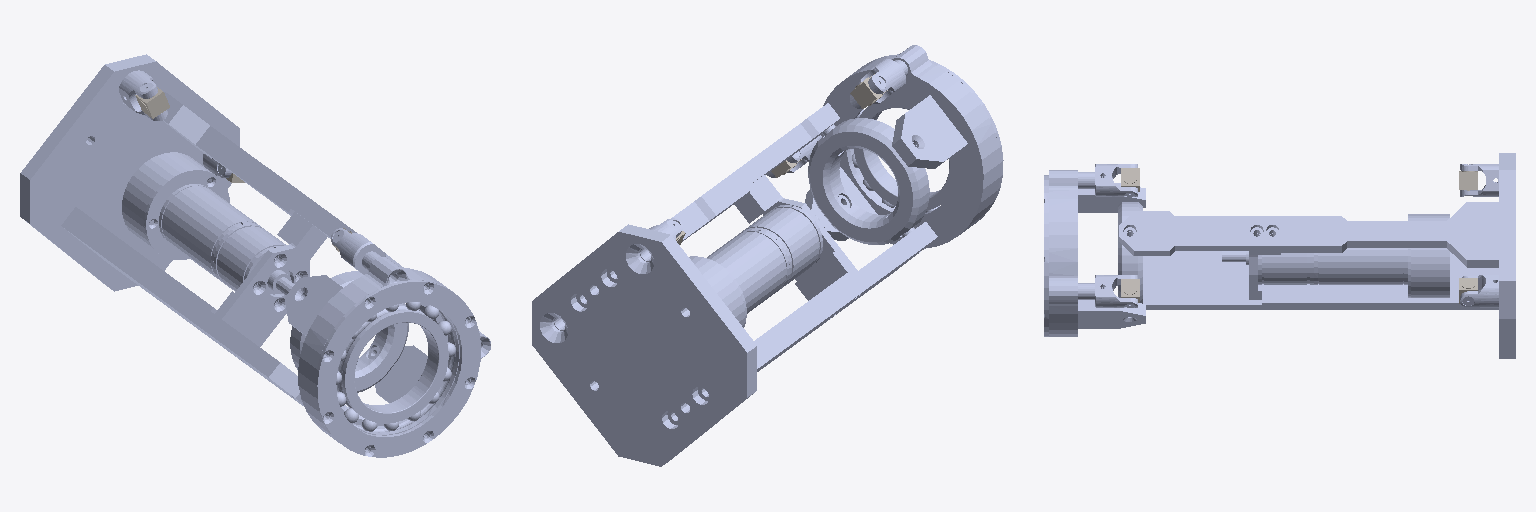
The robot description file, URDF, robot "air_wrist_ros":
<?xml version="1.0" encoding="utf-8"?>
<!-- This URDF was automatically created by SolidWorks to URDF Exporter! Originally created by [author] ([email redacted]) 
     Commit Version: 1.5.1-0-g916b5db  Build Version: 1.5.7152.31018
     For more information, please see http://wiki.ros.org/sw_urdf_exporter -->
<robot
  name="air_wrist_ros">
  <link
    name="base_link">
    <inertial>
      <origin
        xyz="-0.0025061 -0.0025058 0.064711"
        rpy="0 0 0" />
      <mass
        value="0.18492" />
      <inertia
        ixx="0.00023882"
        ixy="1.6596E-06"
        ixz="3.7747E-07"
        iyy="0.00023882"
        iyz="3.7901E-07"
        izz="6.8442E-05" />
    </inertial>
    <visual>
      <origin
        xyz="0 0 0"
        rpy="0 0 0" />
      <geometry>
        <mesh
          filename="package://air_wrist_ros/meshes/base_link.STL" />
      </geometry>
      <material
        name="">
        <color
          rgba="0.79216 0.81961 0.93333 1" />
      </material>
    </visual>
    <collision>
      <origin
        xyz="0 0 0"
        rpy="0 0 0" />
      <geometry>
        <mesh
          filename="package://air_wrist_ros/meshes/base_link.STL" />
      </geometry>
    </collision>
  </link>
  <link
    name="base_x">
    <inertial>
      <origin
        xyz="3.4694E-18 -7.6328E-17 3.2092E-16"
        rpy="0 0 0" />
      <mass
        value="0.0057459" />
      <inertia
        ixx="7.8242E-08"
        ixy="-1.0796E-22"
        ixz="-4.0384E-23"
        iyy="7.6638E-08"
        iyz="6.4201E-10"
        izz="7.5896E-08" />
    </inertial>
    <visual>
      <origin
        xyz="0 0 0"
        rpy="0 0 0" />
      <geometry>
        <mesh
          filename="package://air_wrist_ros/meshes/base_x.STL" />
      </geometry>
      <material
        name="">
        <color
          rgba="0.77647 0.75686 0.73725 1" />
      </material>
    </visual>
    <collision>
      <origin
        xyz="0 0 0"
        rpy="0 0 0" />
      <geometry>
        <mesh
          filename="package://air_wrist_ros/meshes/base_x.STL" />
      </geometry>
    </collision>
  </link>
  <joint
    name="base_xj"
    type="fixed">
    <origin
      xyz="0.04 -0.0225 0"
      rpy="2.8798 0 1.5708" />
    <parent
      link="base_link" />
    <child
      link="base_x" />
    <axis
      xyz="0 0 0" />
  </joint>
  <link
    name="base_y">
    <inertial>
      <origin
        xyz="1.0408E-17 -4.7878E-16 -1.112E-15"
        rpy="0 0 0" />
      <mass
        value="0.0057459" />
      <inertia
        ixx="7.8242E-08"
        ixy="-1.8379E-17"
        ixz="1.4312E-17"
        iyy="7.7008E-08"
        iyz="-8.9423E-13"
        izz="7.5526E-08" />
    </inertial>
    <visual>
      <origin
        xyz="0 0 0"
        rpy="0 0 0" />
      <geometry>
        <mesh
          filename="package://air_wrist_ros/meshes/base_y.STL" />
      </geometry>
      <material
        name="">
        <color
          rgba="0.77647 0.75686 0.73725 1" />
      </material>
    </visual>
    <collision>
      <origin
        xyz="0 0 0"
        rpy="0 0 0" />
      <geometry>
        <mesh
          filename="package://air_wrist_ros/meshes/base_y.STL" />
      </geometry>
    </collision>
  </link>
  <joint
    name="base_yj"
    type="fixed">
    <origin
      xyz="0 -0.0225 0.04"
      rpy="1.9641 0 -1.5708" />
    <parent
      link="base_link" />
    <child
      link="base_y" />
    <axis
      xyz="0 0 0" />
  </joint>
  <link
    name="roll_cardan">
    <inertial>
      <origin
        xyz="1.4118E-08 -1.4882E-08 1.9978E-08"
        rpy="0 0 0" />
      <mass
        value="0.013068" />
      <inertia
        ixx="3.0076E-06"
        ixy="2.5944E-12"
        ixz="3.3722E-12"
        iyy="3.0076E-06"
        iyz="-1.7367E-14"
        izz="5.7134E-06" />
    </inertial>
    <visual>
      <origin
        xyz="0 0 0"
        rpy="0 0 0" />
      <geometry>
        <mesh
          filename="package://air_wrist_ros/meshes/roll_cardan.STL" />
      </geometry>
      <material
        name="">
        <color
          rgba="0.79216 0.81961 0.93333 1" />
      </material>
    </visual>
    <collision>
      <origin
        xyz="0 0 0"
        rpy="0 0 0" />
      <geometry>
        <mesh
          filename="package://air_wrist_ros/meshes/roll_cardan.STL" />
      </geometry>
    </collision>
  </link>
  <joint
    name="roll_j"
    type="revolute">
    <origin
      xyz="0 -0.1845 0"
      rpy="1.5708 -0.7854 0" />
    <parent
      link="base_link" />
    <child
      link="roll_cardan" />
    <axis
      xyz="1 0 0" />
    <limit
      lower="-0.5235"
      upper="0.5235"
      effort="0"
      velocity="0" />
  </joint>
  <link
    name="top_pitch">
    <inertial>
      <origin
        xyz="0.0019886 0.0019886 0.027456"
        rpy="0 0 0" />
      <mass
        value="0.056375" />
      <inertia
        ixx="2.3625E-05"
        ixy="-3.3938E-07"
        ixz="-2.6419E-08"
        iyy="2.3625E-05"
        iyz="-2.6417E-08"
        izz="4.4801E-05" />
    </inertial>
    <visual>
      <origin
        xyz="0 0 0"
        rpy="0 0 0" />
      <geometry>
        <mesh
          filename="package://air_wrist_ros/meshes/top_pitch.STL" />
      </geometry>
      <material
        name="">
        <color
          rgba="0.79216 0.81961 0.93333 1" />
      </material>
    </visual>
    <collision>
      <origin
        xyz="0 0 0"
        rpy="0 0 0" />
      <geometry>
        <mesh
          filename="package://air_wrist_ros/meshes/top_pitch.STL" />
      </geometry>
    </collision>
  </link>
  <joint
    name="pitch_j"
    type="revolute">
    <origin
      xyz="0 0 0"
      rpy="0 0 -0.7854" />
    <parent
      link="roll_cardan" />
    <child
      link="top_pitch" />
    <axis
      xyz="0.70711 -0.70711 0" />
    <limit
      lower="-0.5235"
      upper="0.5235"
      effort="0"
      velocity="0" />
  </joint>
  <link
    name="top_x">
    <inertial>
      <origin
        xyz="0 -1.7035E-15 -1.7417E-15"
        rpy="0 0 0" />
      <mass
        value="0.0057459" />
      <inertia
        ixx="7.8242E-08"
        ixy="4.4796E-23"
        ixz="8.0996E-23"
        iyy="7.5526E-08"
        iyz="-5.6248E-23"
        izz="7.7008E-08" />
    </inertial>
    <visual>
      <origin
        xyz="0 0 0"
        rpy="0 0 0" />
      <geometry>
        <mesh
          filename="package://air_wrist_ros/meshes/top_x.STL" />
      </geometry>
      <material
        name="">
        <color
          rgba="0.77647 0.75686 0.73725 1" />
      </material>
    </visual>
    <collision>
      <origin
        xyz="0 0 0"
        rpy="0 0 0" />
      <geometry>
        <mesh
          filename="package://air_wrist_ros/meshes/top_x.STL" />
      </geometry>
    </collision>
  </link>
  <joint
    name="top_xj"
    type="fixed">
    <origin
      xyz="0.04 0 0"
      rpy="2.3562 1.5708 0" />
    <parent
      link="top_pitch" />
    <child
      link="top_x" />
    <axis
      xyz="0 0 0" />
  </joint>
  <link
    name="top_y">
    <inertial>
      <origin
        xyz="5.5511E-17 -2.158E-15 2.1684E-15"
        rpy="0 0 0" />
      <mass
        value="0.0057459" />
      <inertia
        ixx="7.8242E-08"
        ixy="9.4579E-23"
        ixz="1.1731E-22"
        iyy="7.5526E-08"
        iyz="-2.647E-23"
        izz="7.7008E-08" />
    </inertial>
    <visual>
      <origin
        xyz="0 0 0"
        rpy="0 0 0" />
      <geometry>
        <mesh
          filename="package://air_wrist_ros/meshes/top_y.STL" />
      </geometry>
      <material
        name="">
        <color
          rgba="0.77647 0.75686 0.73725 1" />
      </material>
    </visual>
    <collision>
      <origin
        xyz="0 0 0"
        rpy="0 0 0" />
      <geometry>
        <mesh
          filename="package://air_wrist_ros/meshes/top_y.STL" />
      </geometry>
    </collision>
  </link>
  <joint
    name="top_yj"
    type="fixed">
    <origin
      xyz="0 0.04 0"
      rpy="2.3562 1.5708 0" />
    <parent
      link="top_pitch" />
    <child
      link="top_y" />
    <axis
      xyz="0 0 0" />
  </joint>
  <link
    name="yaw_top">
    <inertial>
      <origin
        xyz="0.0027885 -0.0027266 0.10755"
        rpy="0 0 0" />
      <mass
        value="0.28988" />
      <inertia
        ixx="0.00021505"
        ixy="-2.243E-08"
        ixz="2.722E-07"
        iyy="0.0002927"
        iyz="1.1532E-05"
        izz="0.00016683" />
    </inertial>
    <visual>
      <origin
        xyz="0 0 0"
        rpy="0 0 0" />
      <geometry>
        <mesh
          filename="package://air_wrist_ros/meshes/yaw_top.STL" />
      </geometry>
      <material
        name="">
        <color
          rgba="0.79216 0.81961 0.93333 1" />
      </material>
    </visual>
    <collision>
      <origin
        xyz="0 0 0"
        rpy="0 0 0" />
      <geometry>
        <mesh
          filename="package://air_wrist_ros/meshes/yaw_top.STL" />
      </geometry>
    </collision>
  </link>
<!--  <joint
    name="yaw_j"
    type="continuous">
    <origin
      xyz="0 0 0.024997"
      rpy="0 0 -2.2473" />
    <parent
      link="top_pitch" />
    <child
      link="yaw_top" />
    <axis
      xyz="0 0 1" />
  </joint>-->
  <joint
  name="yaw_j"
  type="revolute">
  <origin
    xyz="0 0 0.024997"
    rpy="0 0 -2.2473" />
  <parent
    link="top_pitch" />
  <child
    link="yaw_top" />
  <axis
    xyz="0 0 1" />
  <limit
    lower="-0.5235"
    upper="0.5235"
    effort="0"
    velocity="0" />
  </joint>
</robot>

--- Facts derived from the render (not from the file) ---
Views: 3 orthographic renders of the robot side by side, from view 1: azimuth 30°, elevation 25°; view 2: azimuth 150°, elevation 25°; view 3: azimuth 270°, elevation 25°.
Robot: air_wrist_ros — 8 links, 7 joints (3 revolute, 4 fixed); root link base_link; default pose: all joints at 0.
Visible links, largest first — view 1: base_link, top_pitch, roll_cardan, base_y; view 2: base_link, top_pitch, roll_cardan; view 3: base_link, top_pitch, roll_cardan.
Link boxes in pixels (bbox=[...]): base_link: bbox=[20, 54, 403, 405]; top_pitch: bbox=[284, 228, 490, 457]; roll_cardan: bbox=[290, 271, 408, 392]; base_y: bbox=[135, 87, 169, 118]; base_link: bbox=[532, 103, 937, 466]; top_pitch: bbox=[766, 45, 1003, 248]; roll_cardan: bbox=[808, 118, 929, 244]; base_link: bbox=[1119, 153, 1515, 358]; top_pitch: bbox=[1044, 164, 1145, 336]; roll_cardan: bbox=[1118, 202, 1142, 303].
Size in the robot's own frame: 0.1 by 0.2255 by 0.1 metres.
Meshes: 8 distinct files referenced, 7 mesh visuals loaded (7 binary STL); not drawn: 1 (reference not matched to a file when rendering).
